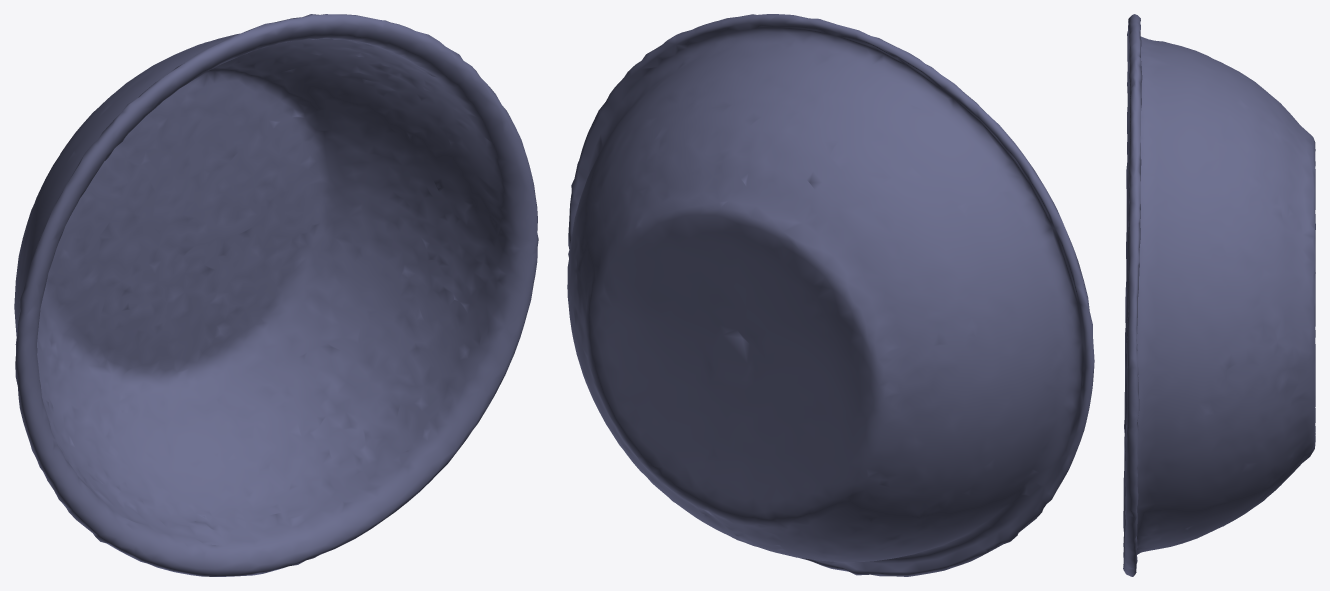
3 renders of one model, left to right at view 1: azimuth 30°, elevation 25°; view 2: azimuth 150°, elevation 25°; view 3: azimuth 270°, elevation 25°, orthographic. The views are drawn at different scales.
Bounding box in the file's own units: 0.1615 × 0.1612 × 0.055.
